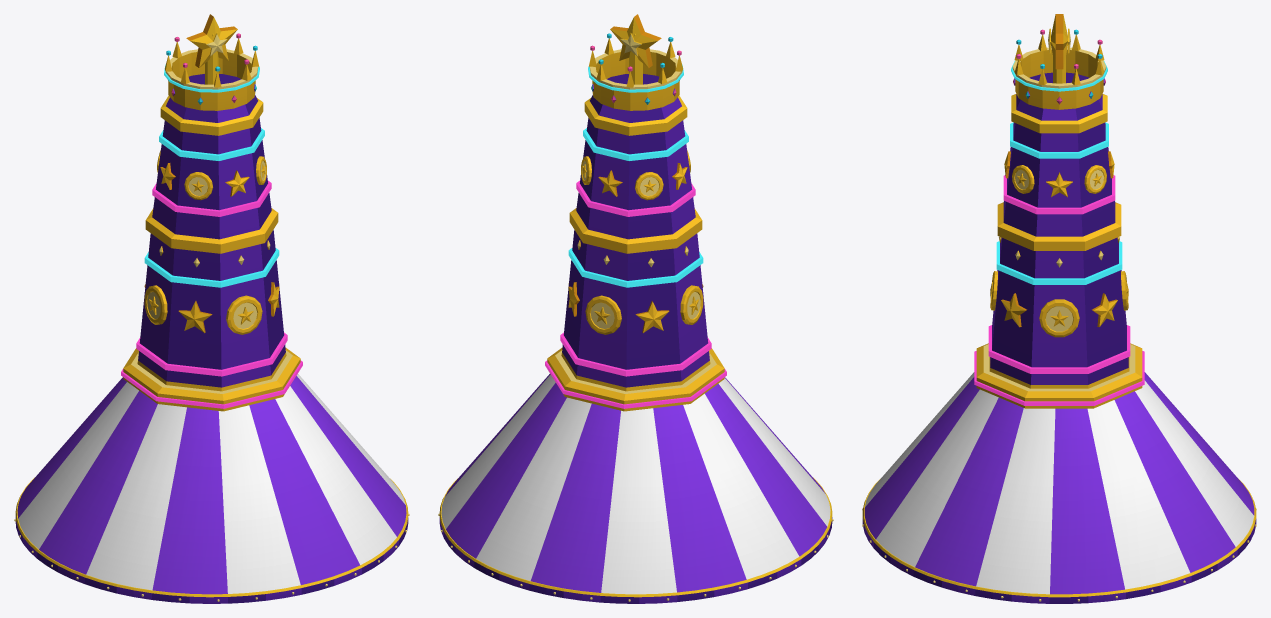
The model's file is JackpotSpire.glb.
3 views of the same model, side by side, from view 1: azimuth 30°, elevation 25°; view 2: azimuth 150°, elevation 25°; view 3: azimuth 270°, elevation 25° (orthographic).
Parts seen in each view (by area): view 1: Skirt, Spire, NeonRings, Crown, Base; view 2: Skirt, Spire, NeonRings, Crown, Base; view 3: Skirt, Spire, NeonRings, Crown, Base.
Boxes of the visible parts, x1=… form: Skirt: x1=17, y1=374, x2=406, y2=594; Spire: x1=123, y1=32, x2=300, y2=411; NeonRings: x1=121, y1=64, x2=302, y2=408; Crown: x1=165, y1=14, x2=259, y2=110; Base: x1=14, y1=477, x2=409, y2=603; Skirt: x1=441, y1=374, x2=830, y2=594; Spire: x1=547, y1=32, x2=724, y2=411; NeonRings: x1=545, y1=64, x2=726, y2=408; Crown: x1=588, y1=14, x2=682, y2=110; Base: x1=438, y1=477, x2=833, y2=603; Skirt: x1=864, y1=372, x2=1254, y2=594; Spire: x1=976, y1=30, x2=1142, y2=408; NeonRings: x1=974, y1=61, x2=1144, y2=405; Crown: x1=1012, y1=14, x2=1106, y2=109; Base: x1=862, y1=479, x2=1256, y2=603.
Size of the model in its own units: 121 by 172 by 121.
Materials: 2 (2 with a texture image).
